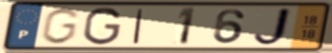1: (176, 6, 197, 47)
6: (213, 8, 246, 45)
G: (38, 6, 82, 46), (81, 6, 124, 46)
I: (131, 8, 146, 45)
J: (250, 6, 294, 48)
